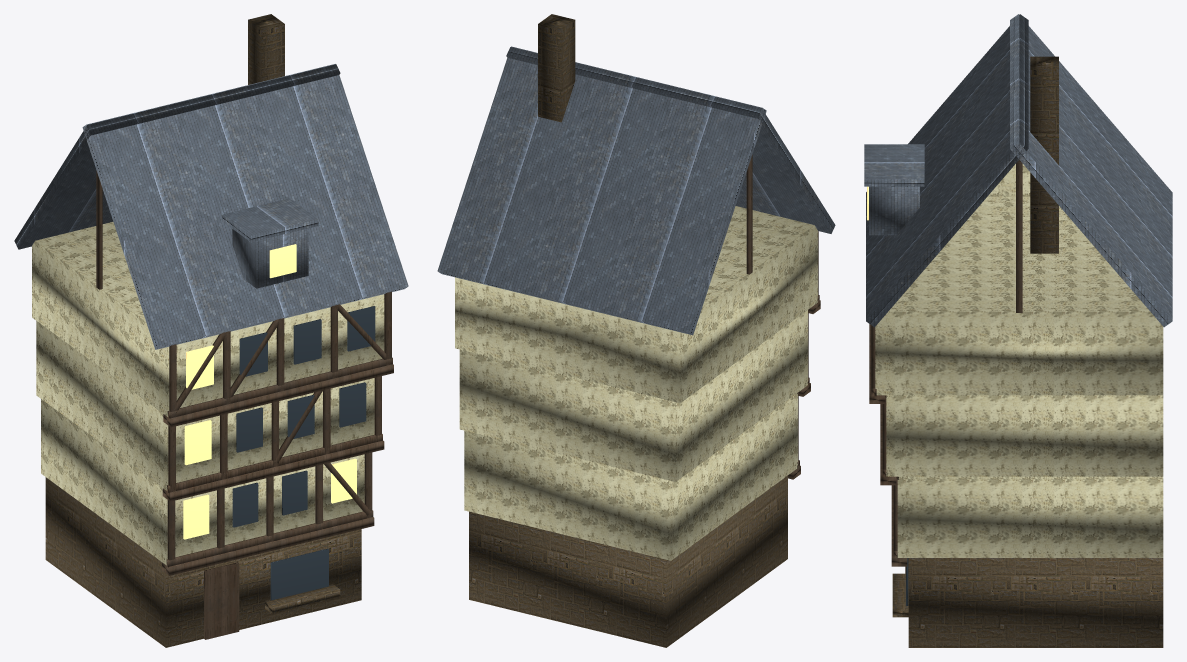
The model's file is house_3.glb.
3 renders of one model, left to right at view 1: azimuth 30°, elevation 25°; view 2: azimuth 150°, elevation 25°; view 3: azimuth 270°, elevation 25°, orthographic. The views are drawn at different scales.
Visible parts, largest first — view 1: house_3; view 2: house_3; view 3: house_3.
Boxes of the visible parts, x1,y1,x2,y2 form: house_3: (14, 14, 408, 647); house_3: (437, 14, 835, 647); house_3: (864, 14, 1172, 647).
Size of the model in its own units: 9.55 by 19.74 by 9.7.
6 materials, 4 textured.
